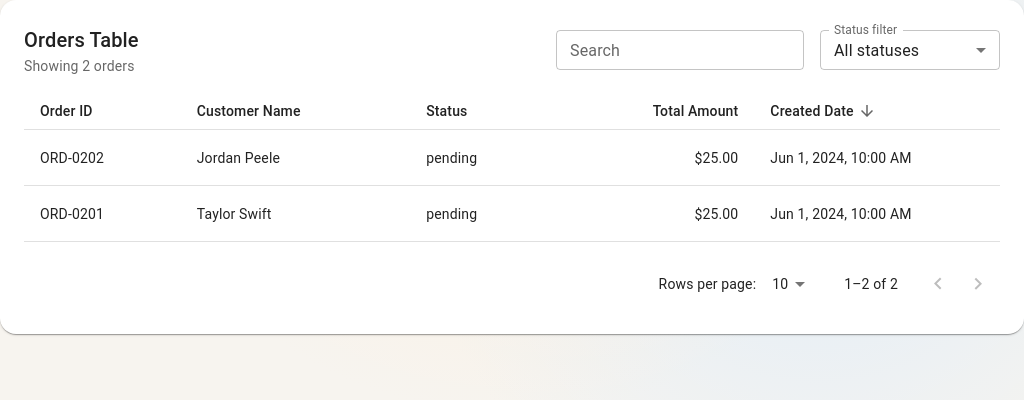
Test: OrdersTable › filters by search text
The width and height of the screenshot is (1024, 400).
Type "Taylor" into the field labelled "Search".
click(680, 50); type("Taylor")  # box 556,30 -> 804,70
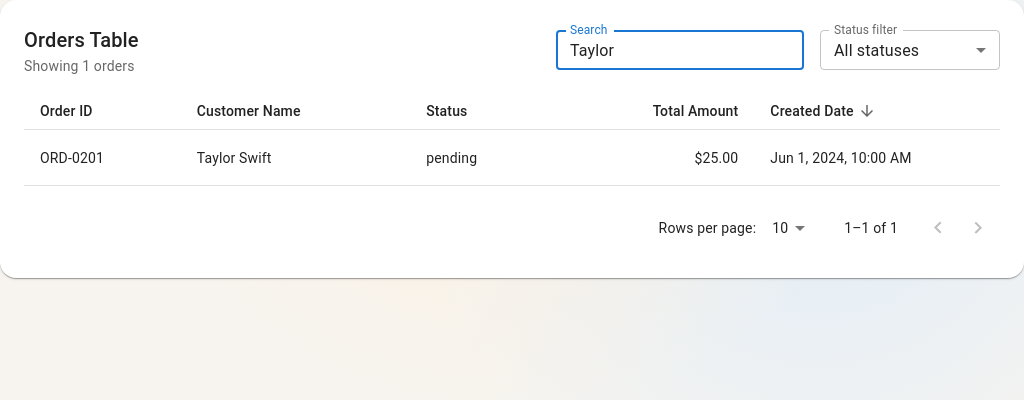
Expected: the text "ORD-0201" is shown, 24,130 -> 181,186
Result: the text "ORD-0202" is gone
